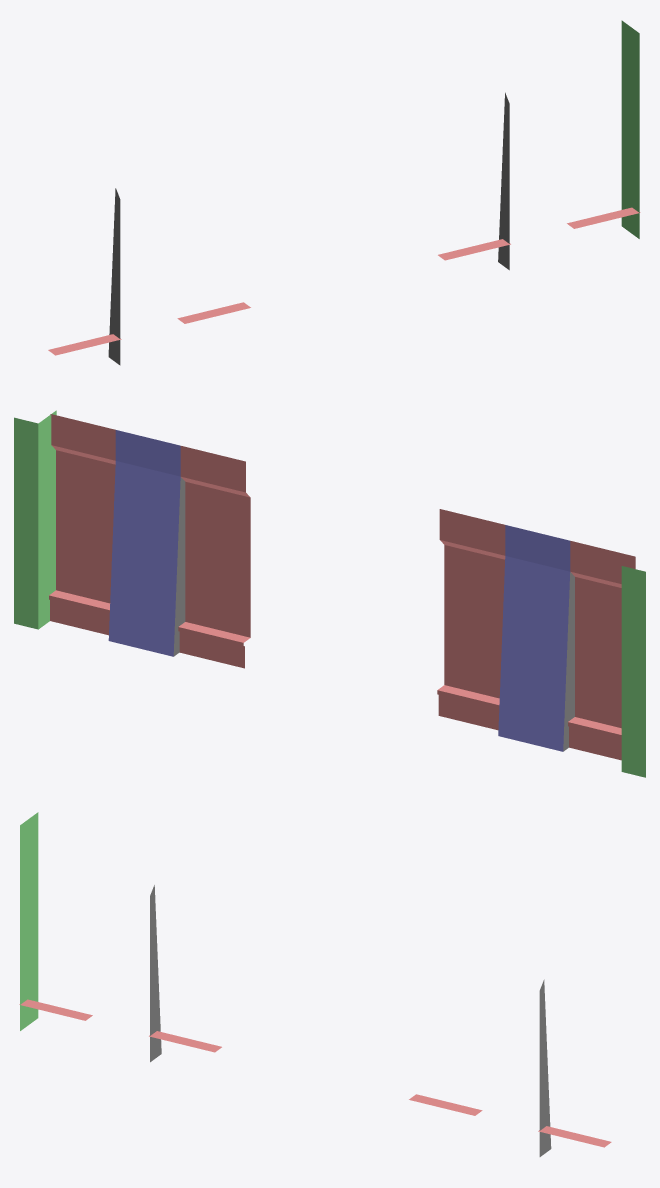
Rendered from SSQ_dungeon_S__SSQ_Room01_Wall01.gltf.
The picture shows the model from 3 angles, top to bottom: view 1: azimuth 30°, elevation 25°; view 2: azimuth 150°, elevation 25°; view 3: azimuth 330°, elevation 25°; orthographic projection.
Visible parts, largest first — view 1: SSQ_Room01_Wall01; view 2: SSQ_Room01_Wall01; view 3: SSQ_Room01_Wall01.
Boxes of the visible parts, left/top/right/bottom form: SSQ_Room01_Wall01: left=48, top=20, right=640, bottom=365; SSQ_Room01_Wall01: left=14, top=410, right=645, bottom=777; SSQ_Room01_Wall01: left=19, top=812, right=611, bottom=1156.
Size of the model in its own units: 12.46 by 3.88 by 0.6235.
